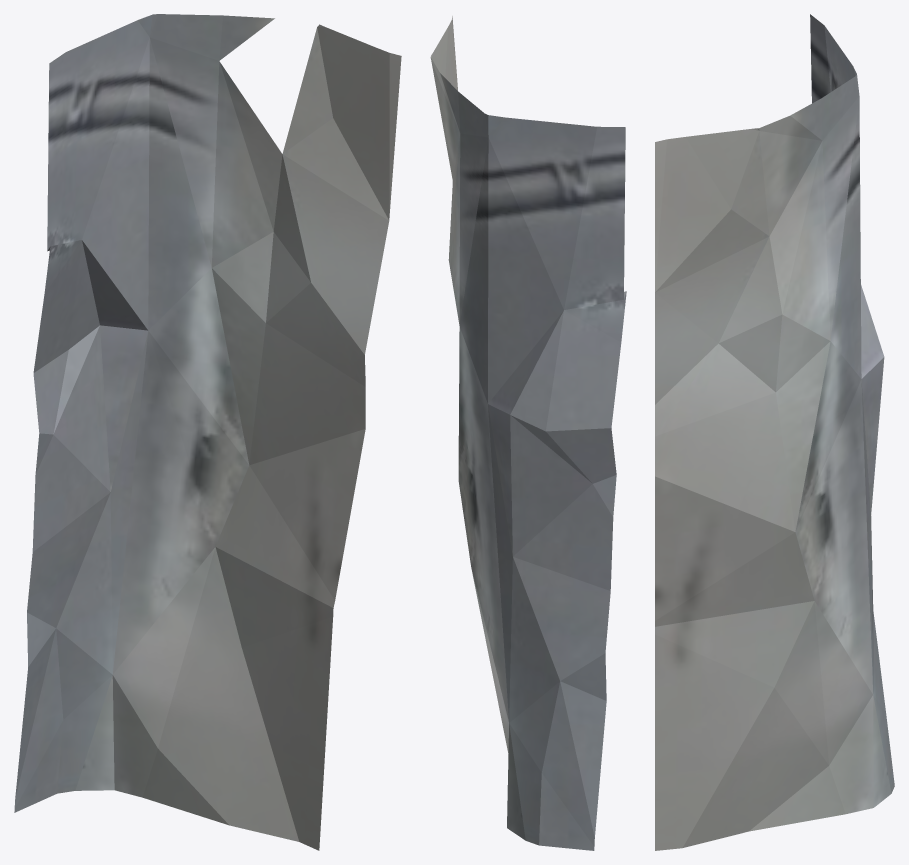
The picture shows the model from 3 angles, left to right: view 1: azimuth 30°, elevation 25°; view 2: azimuth 150°, elevation 25°; view 3: azimuth 270°, elevation 25°; orthographic projection. The views are drawn at different scales.
Size of the model in its own units: 0.3076 by 0.8373 by 0.2433.
2 materials, 2 textured.
